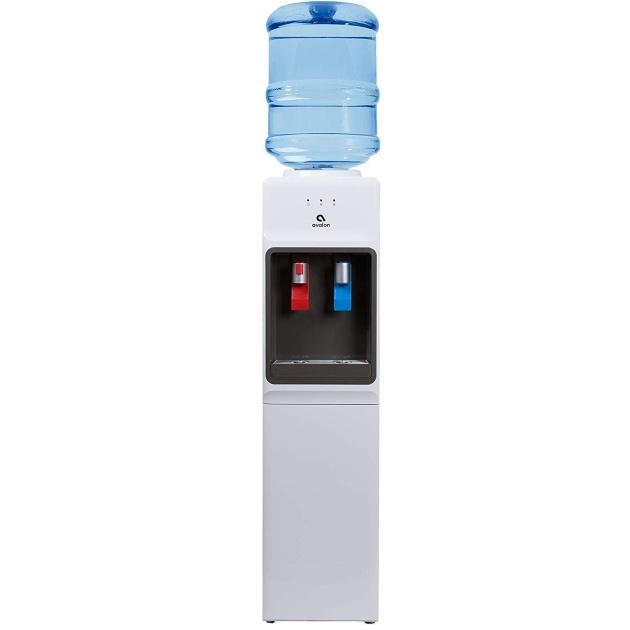Dispenser: (261, 2, 377, 623)
